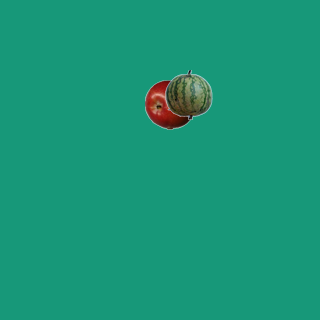Apple Braeburn: (144, 79, 194, 129)
Watermelon: (163, 69, 213, 119)
